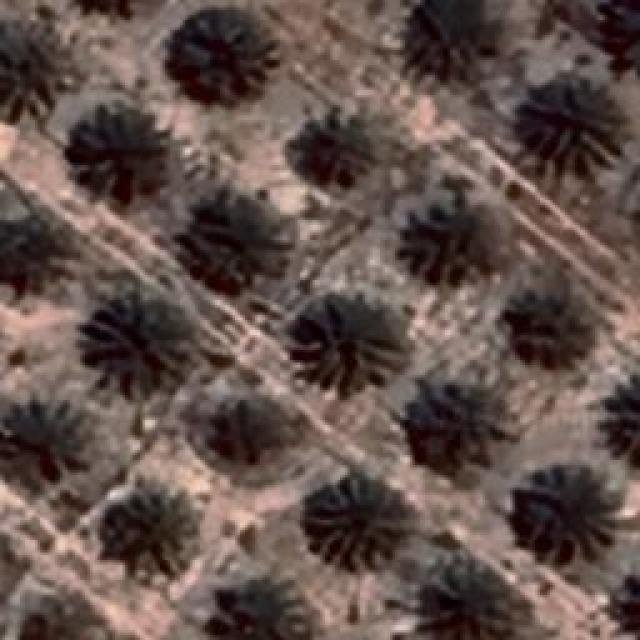PalmTree: (44, 101, 618, 420), (30, 38, 625, 101), (78, 288, 192, 400), (520, 76, 622, 179), (300, 475, 410, 570), (160, 8, 270, 102), (302, 295, 408, 390), (102, 478, 200, 578), (186, 188, 286, 280), (406, 567, 528, 640), (70, 108, 158, 198), (422, 385, 510, 470), (0, 18, 70, 122), (410, 195, 492, 283), (208, 570, 318, 635), (532, 472, 610, 558), (290, 116, 378, 192), (400, 0, 485, 78), (512, 291, 588, 371), (6, 400, 74, 485), (0, 206, 60, 292), (205, 400, 278, 460), (17, 597, 104, 640), (613, 561, 640, 640), (64, 0, 159, 19), (620, 558, 640, 638), (64, 0, 160, 15), (62, 0, 160, 11)
